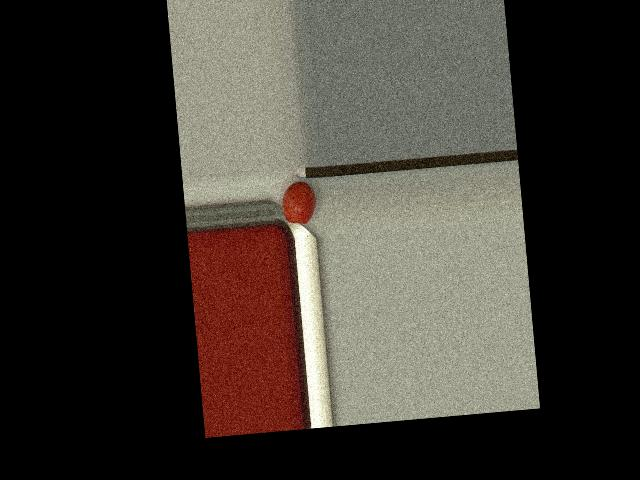tomato: (280, 180, 317, 225)
